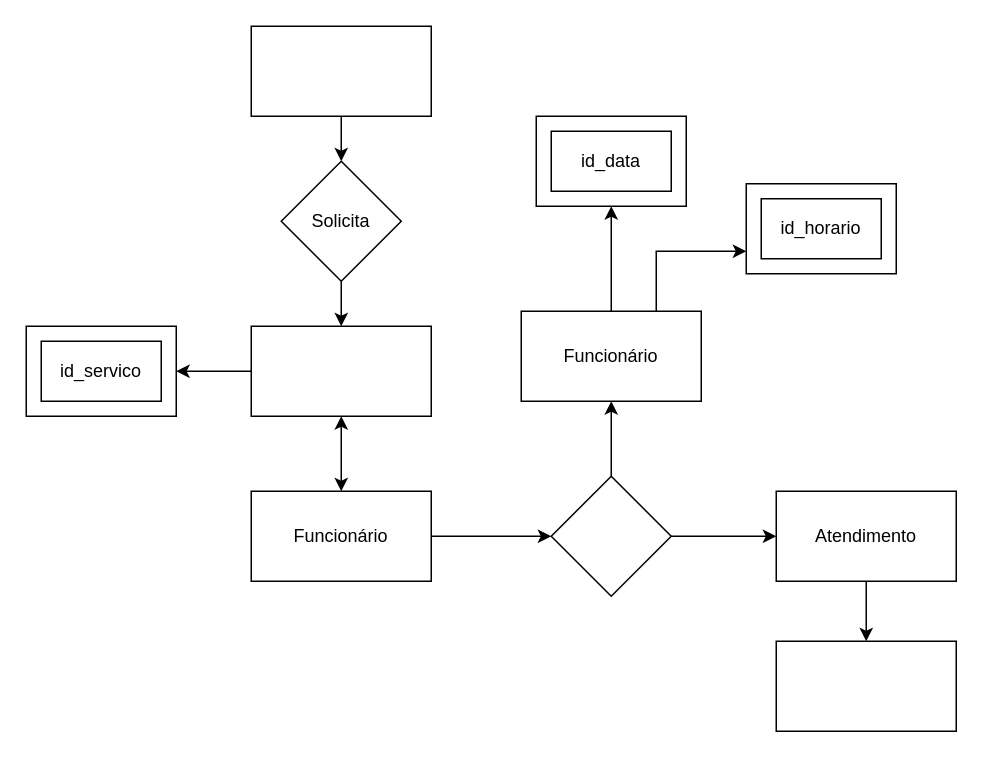
The diagram is 983 pixels wide and 758 high, and some of its shapes have lost their labels. The shapes that lost their labels are listed below. From the top down, each one's box as (x1, y1, x2, y2) in pixels, then its label:
(250, 25, 431, 116): Cliente
(250, 325, 431, 416): Agendamento
(550, 475, 671, 596): Verifica
(775, 640, 956, 731): Serviço
